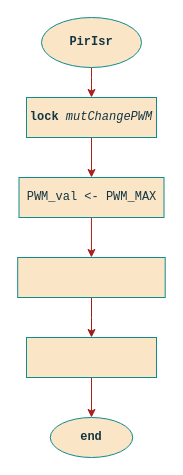
The diagram is 183 pixels wide and 475 high, and some of its shapes have lost their labels. The box of each missing label's shape, as (x1, y1, x2, y2) in pixels:
sendPipeMsg (PWM_val): (17, 256, 165, 298)
unlock mutChangePWM: (26, 336, 156, 378)
